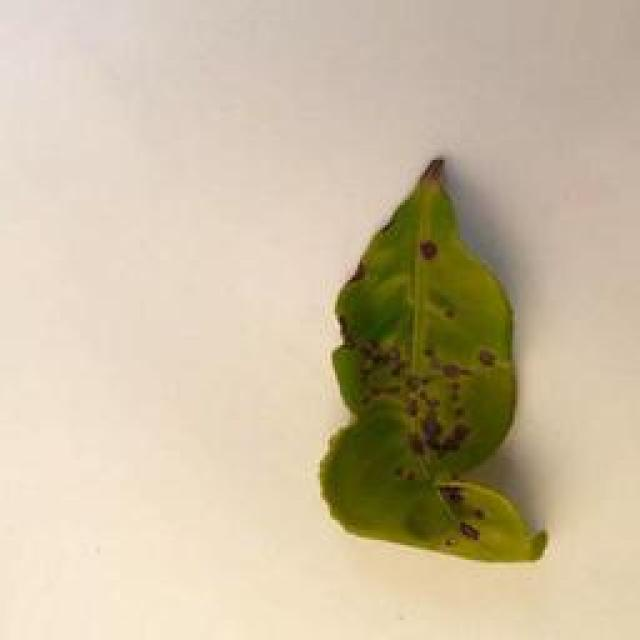Helopeltis: (320, 143, 564, 568)
